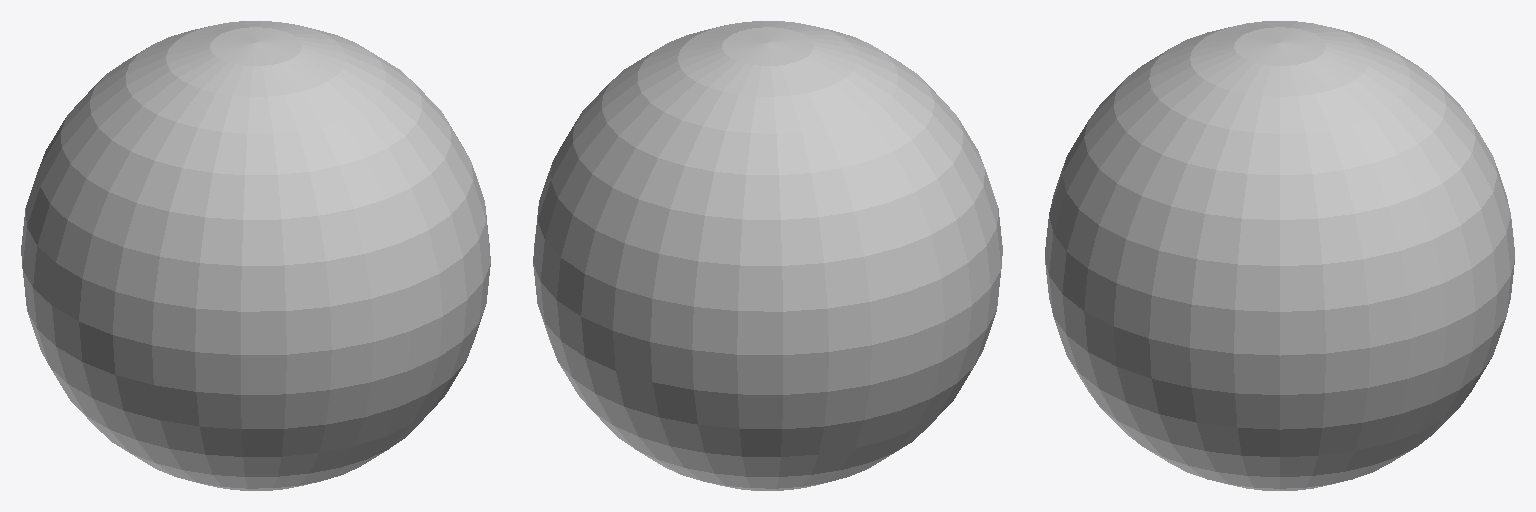
File: bala.obj
3 renders of one model, left to right at view 1: azimuth 30°, elevation 25°; view 2: azimuth 150°, elevation 25°; view 3: azimuth 270°, elevation 25°, orthographic.
Visible parts, largest first — view 1: Sphere.001; view 2: Sphere.001; view 3: Sphere.001.
Part boxes in pixels (left/top/right/bottom): Sphere.001: left=21, top=21, right=490, bottom=490; Sphere.001: left=533, top=21, right=1002, bottom=490; Sphere.001: left=1045, top=21, right=1514, bottom=490.
Size of the model in its own units: 1 by 1 by 1.